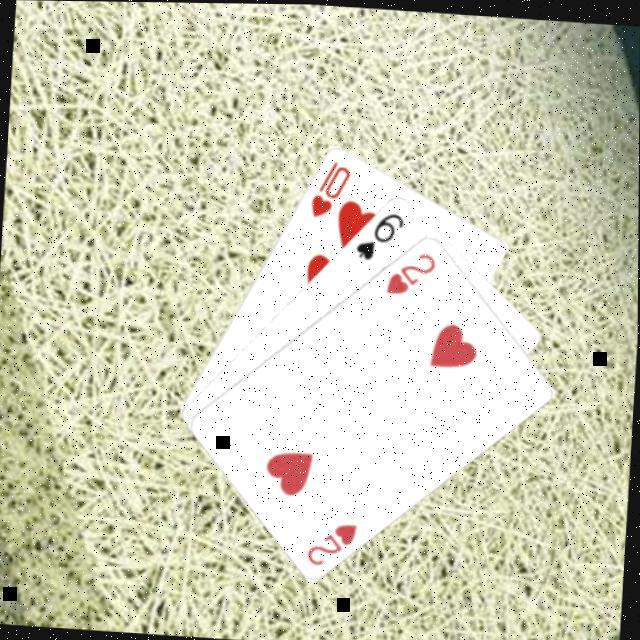10H: (309, 153, 356, 220)
2H: (305, 514, 364, 568), (384, 244, 442, 298)
6S: (355, 204, 410, 262)
